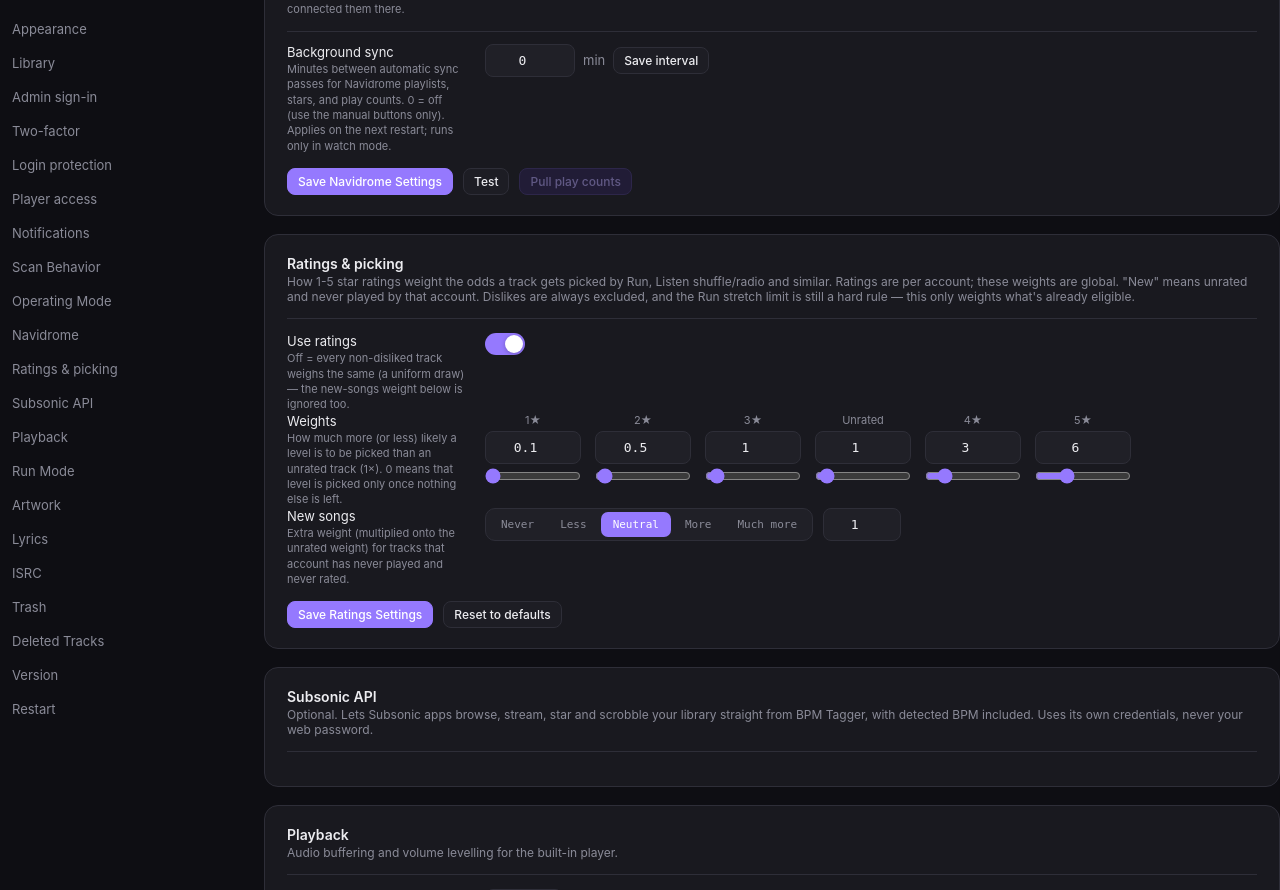
Test case: Settings — Ratings & picking › fetches a live preview (debounced) when a weight changes
This screenshot has width=1280, height=890.
(page scrolled)
Expected: the heading "Ratings & picking" is shown, top-left (287, 255), bottom-right (404, 272)
Replace the text in the number field named "5★ weight" with "8". click: (1083, 447)
box: top-left (1035, 431), bottom-right (1131, 464)
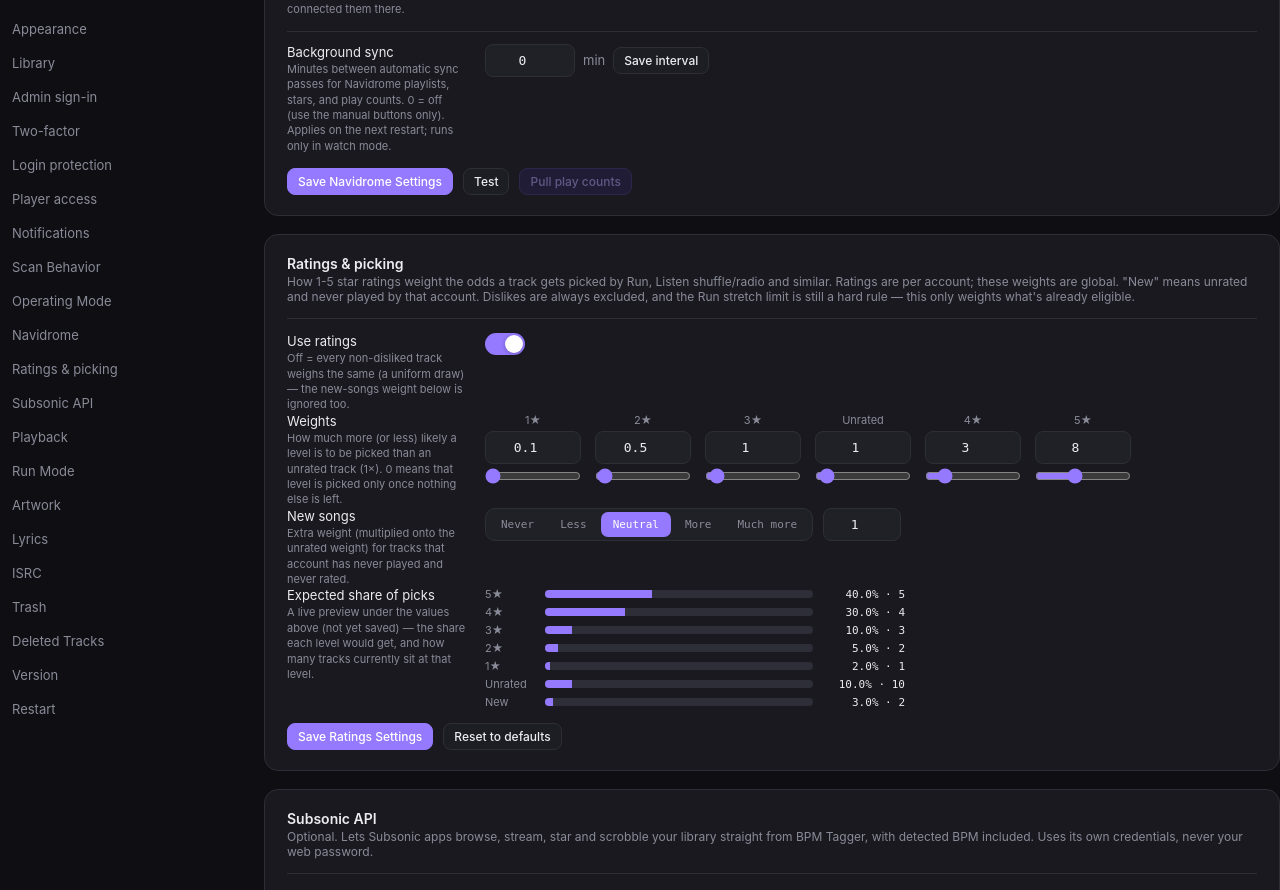
Expected: the text "40.0% · 5" is shown, top-left (845, 588), bottom-right (905, 601)
